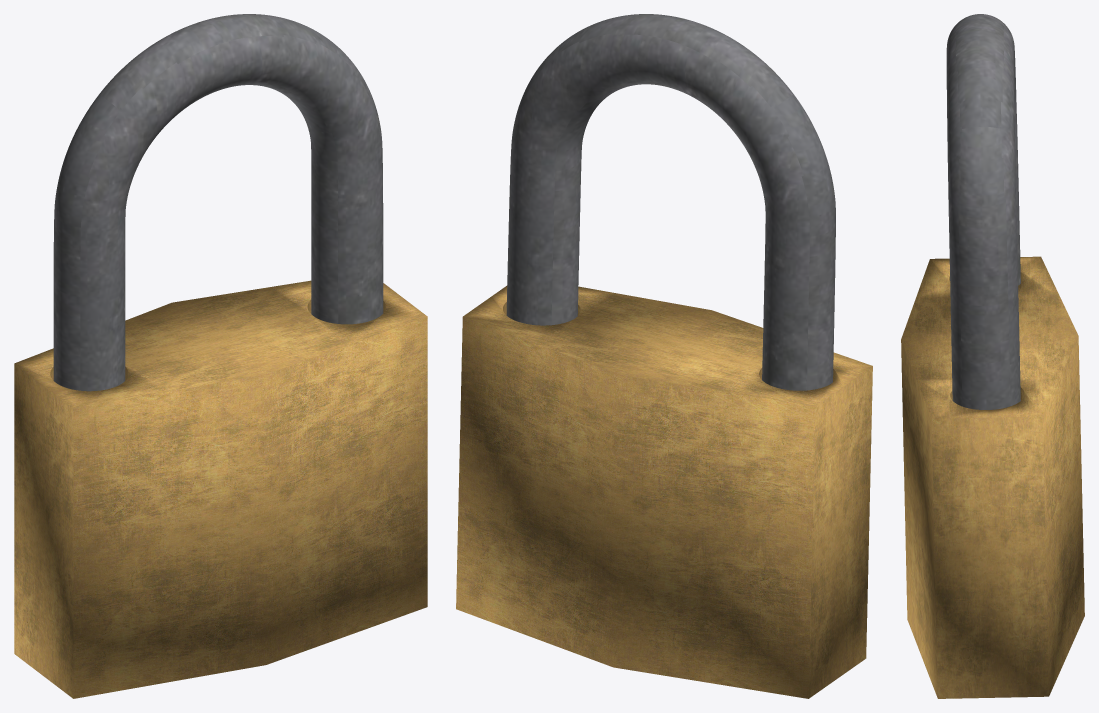
File: Lock 1.fbx
3 views of the same model, side by side, from view 1: azimuth 30°, elevation 25°; view 2: azimuth 150°, elevation 25°; view 3: azimuth 270°, elevation 25° (orthographic). The views are drawn at different scales.
Visible parts, largest first — view 1: Body Lock, Metal Lock; view 2: Body Lock, Metal Lock; view 3: Body Lock, Metal Lock.
Boxes of the visible parts, x1,y1,x2,y2 form: Body Lock: [14, 280, 427, 698]; Metal Lock: [53, 14, 383, 391]; Body Lock: [456, 285, 872, 698]; Metal Lock: [506, 14, 835, 390]; Body Lock: [901, 256, 1084, 698]; Metal Lock: [946, 14, 1020, 409].
Bounding box in the file's own units: 5.99 × 9.87 × 2.8.
3 materials, 2 textured.
